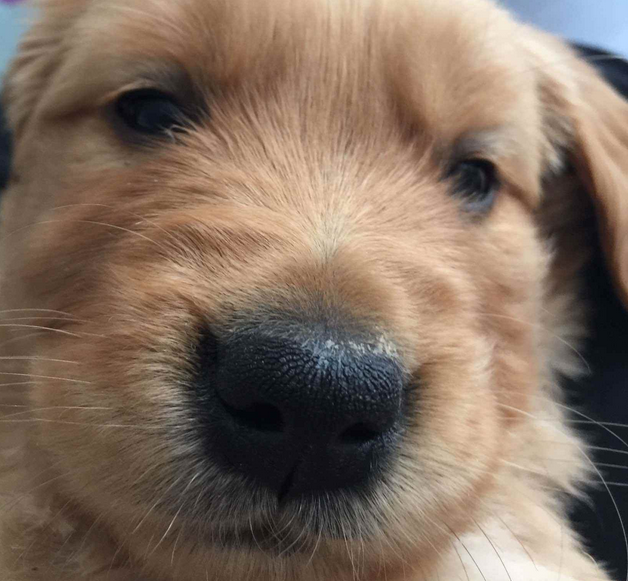nose: (214, 314, 406, 499)
